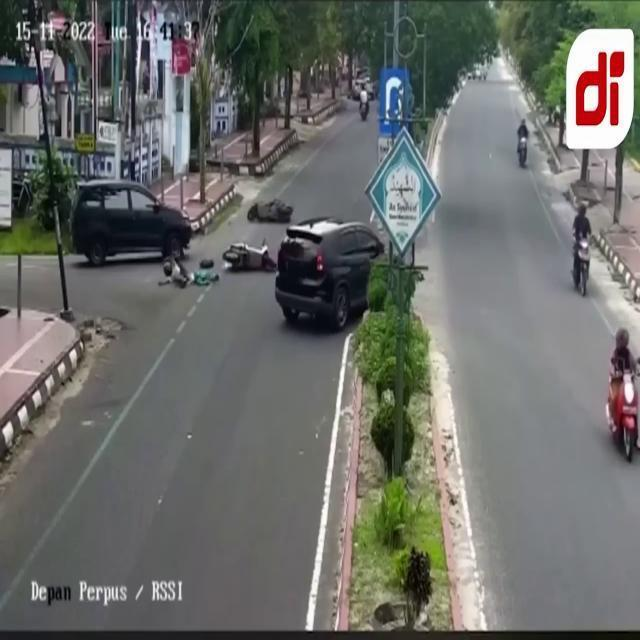accident: (160, 198, 294, 290)
